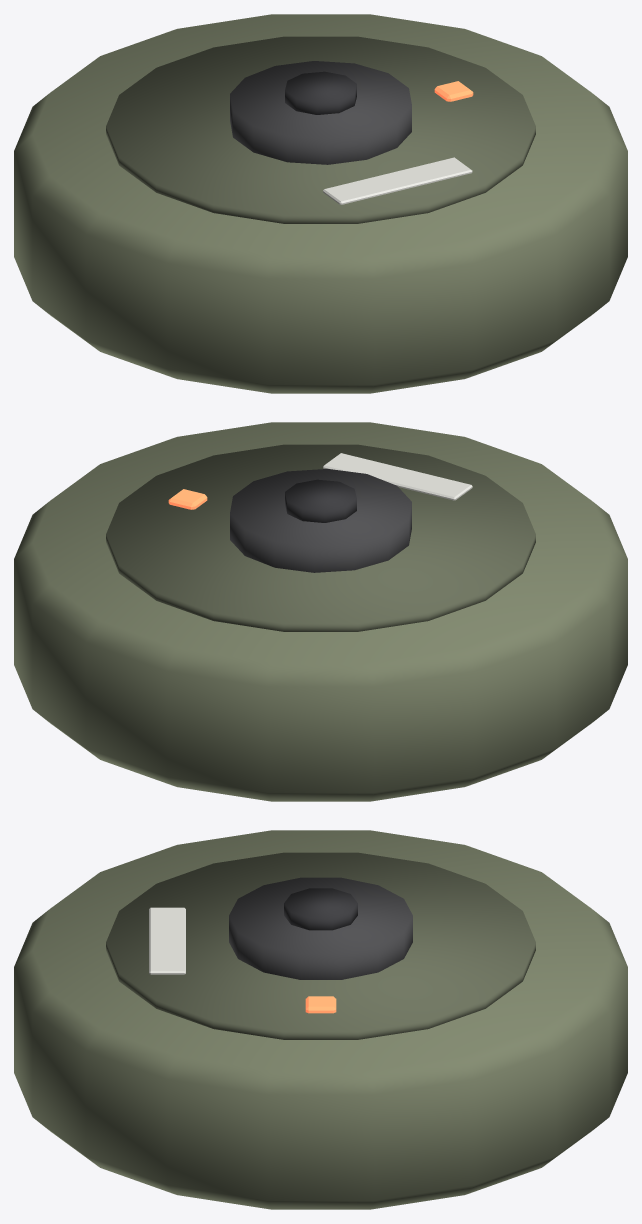
The model's file is mine.glb.
3 views of the same model, one above another, from view 1: azimuth 30°, elevation 25°; view 2: azimuth 150°, elevation 25°; view 3: azimuth 270°, elevation 25° (orthographic).
Visible parts, largest first — view 1: Mine; view 2: Mine; view 3: Mine.
Part boxes in pixels (x1,y1,x2,y2): Mine: (14, 14, 627, 393); Mine: (14, 422, 627, 801); Mine: (14, 830, 627, 1209).
Bounding box in the file's own units: 0.197 × 0.067 × 0.2.
